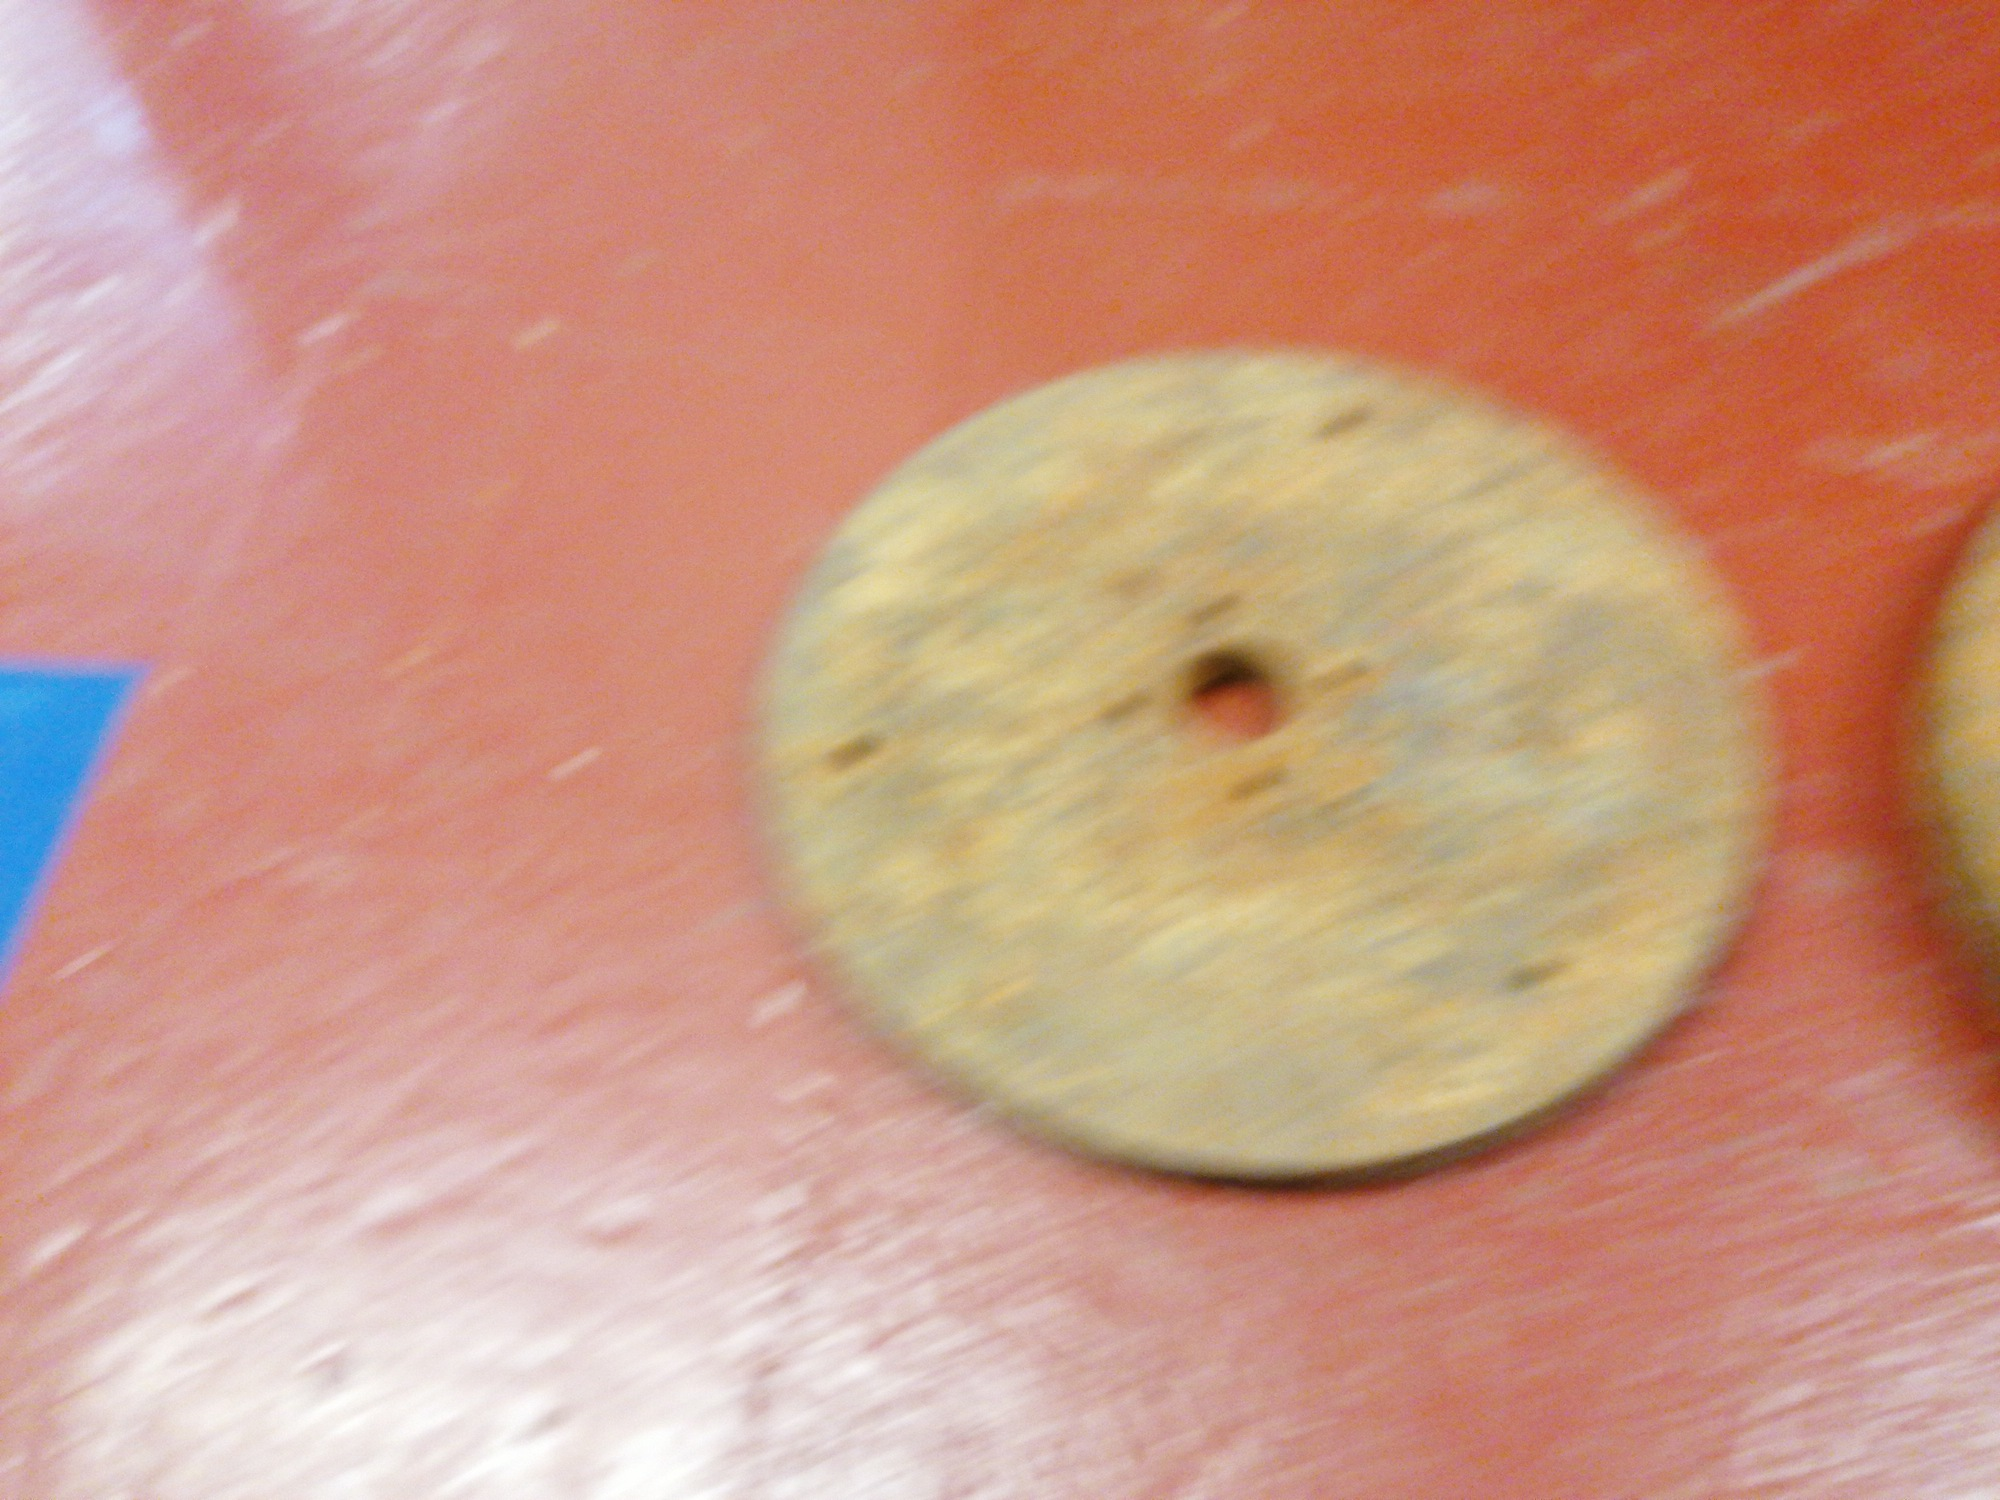flange: (745, 337, 1776, 1191), (1899, 503, 2000, 1012)
